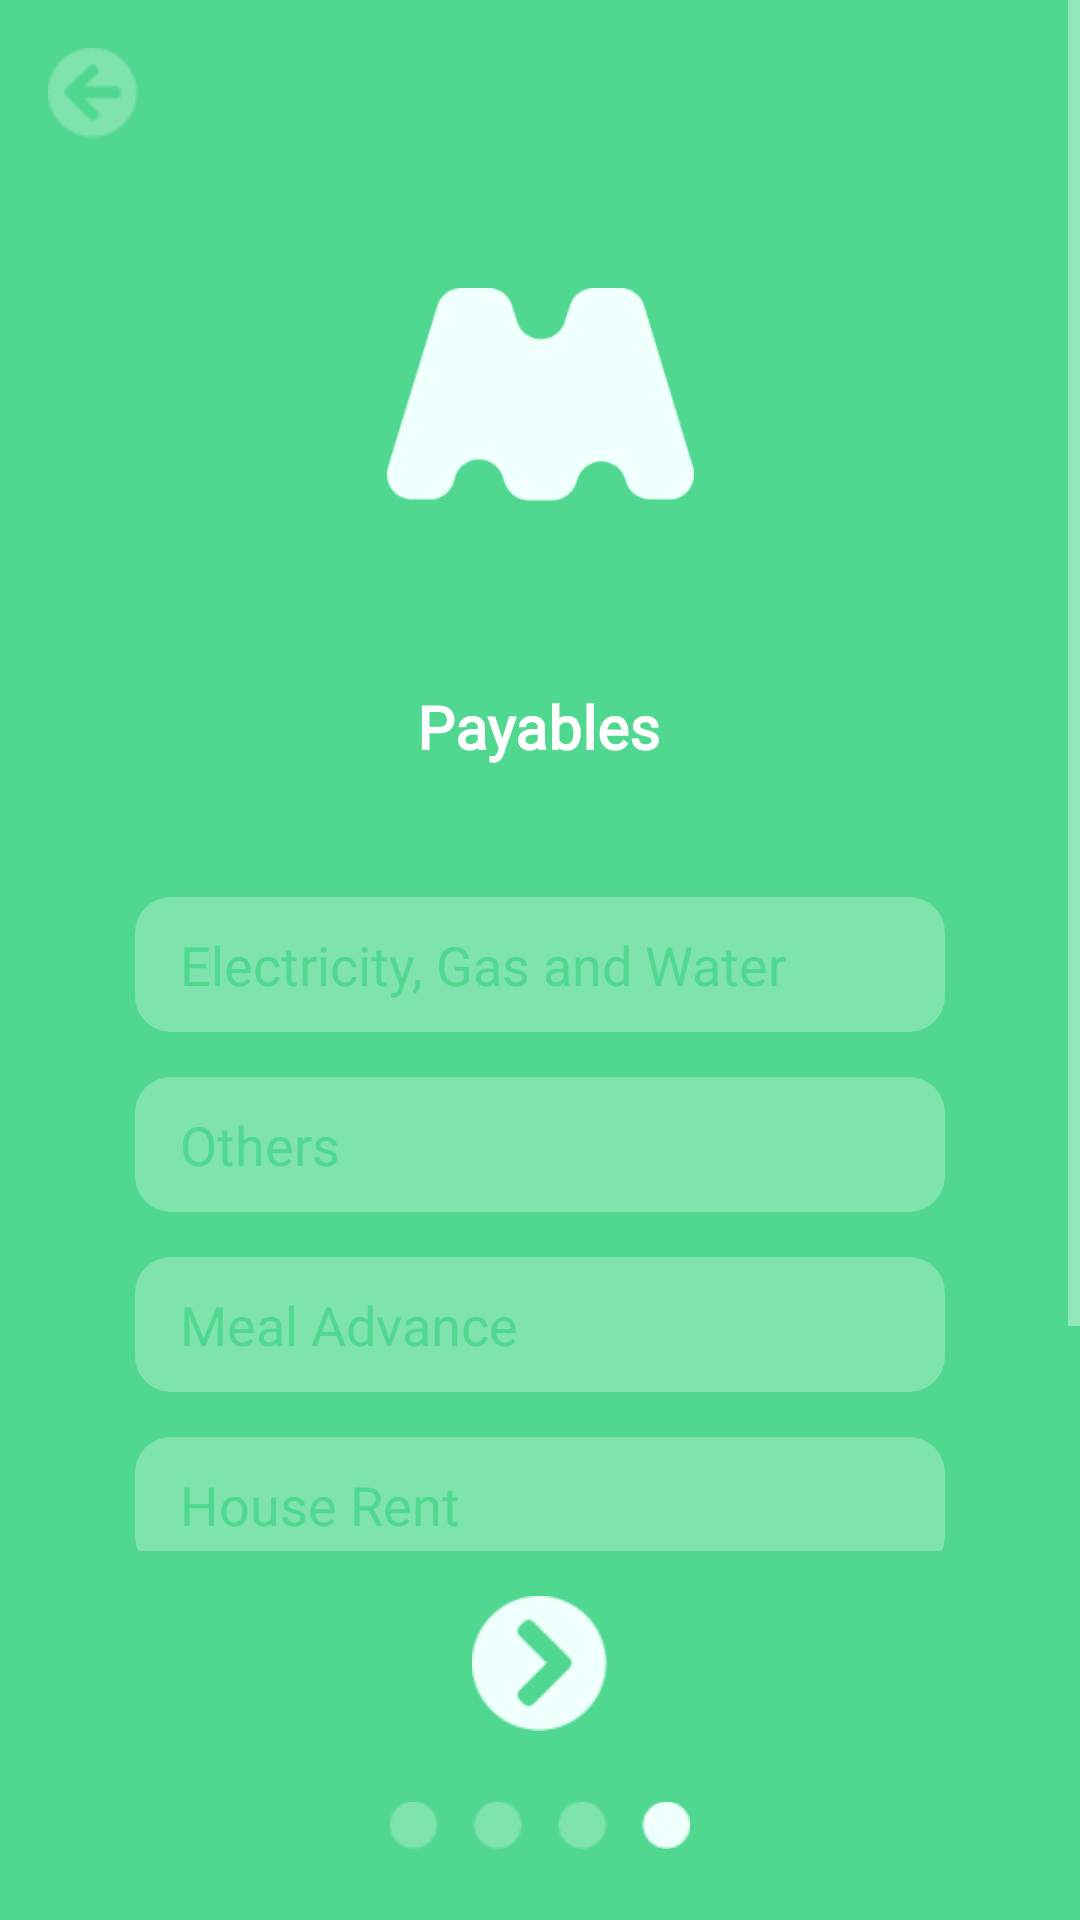

Locate icon controls on the screen. Image size 1080px×1920px, boxes as detection(x1, y1, x2, y2).
back: detection(48, 48, 137, 137)
next: detection(472, 1596, 607, 1731)
